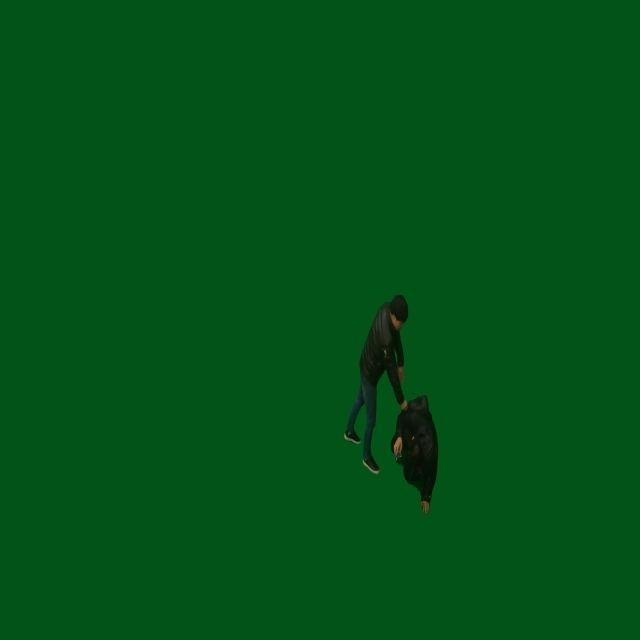fight: (346, 291, 443, 510)
